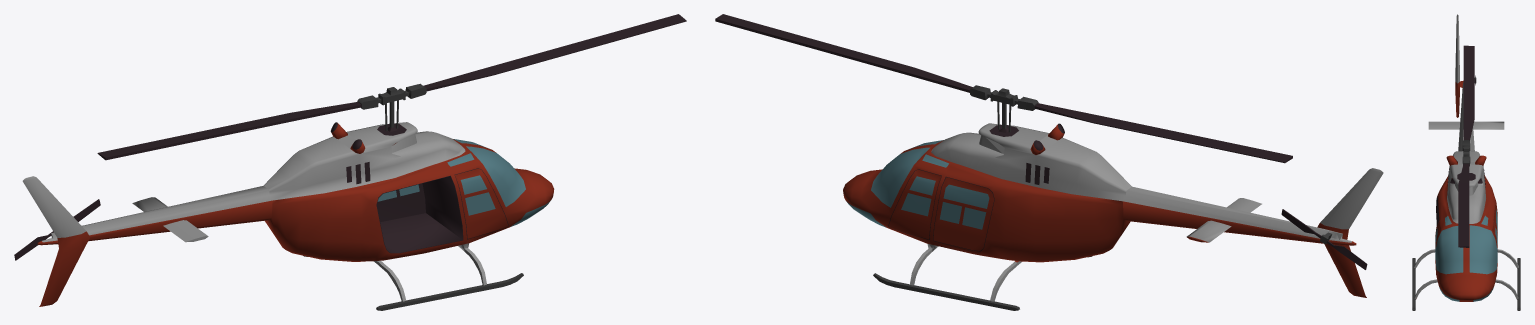
Rendered from Helicopter.fbx.
The picture shows the model from 3 angles, left to right: view 1: azimuth 30°, elevation 25°; view 2: azimuth 150°, elevation 25°; view 3: azimuth 270°, elevation 25°; orthographic projection. The views are drawn at different scales.
Visible parts, largest first — view 1: Helicopter_Body, Helicopter_MainRotor, Helicopter_TailRotor; view 2: Helicopter_Body, Helicopter_MainRotor, Helicopter_TailRotor; view 3: Helicopter_Body, Helicopter_MainRotor.
Part boxes in pixels (left/top/right/bottom): Helicopter_Body: left=22, top=122, right=554, bottom=310; Helicopter_MainRotor: left=97, top=14, right=686, bottom=160; Helicopter_TailRotor: left=14, top=199, right=100, bottom=260; Helicopter_Body: left=843, top=123, right=1383, bottom=310; Helicopter_MainRotor: left=715, top=14, right=1292, bottom=163; Helicopter_TailRotor: left=1281, top=209, right=1367, bottom=269; Helicopter_Body: left=1412, top=14, right=1520, bottom=310; Helicopter_MainRotor: left=1458, top=45, right=1474, bottom=247.
Size of the model in its own units: 12.4 by 3.46 by 2.46.
